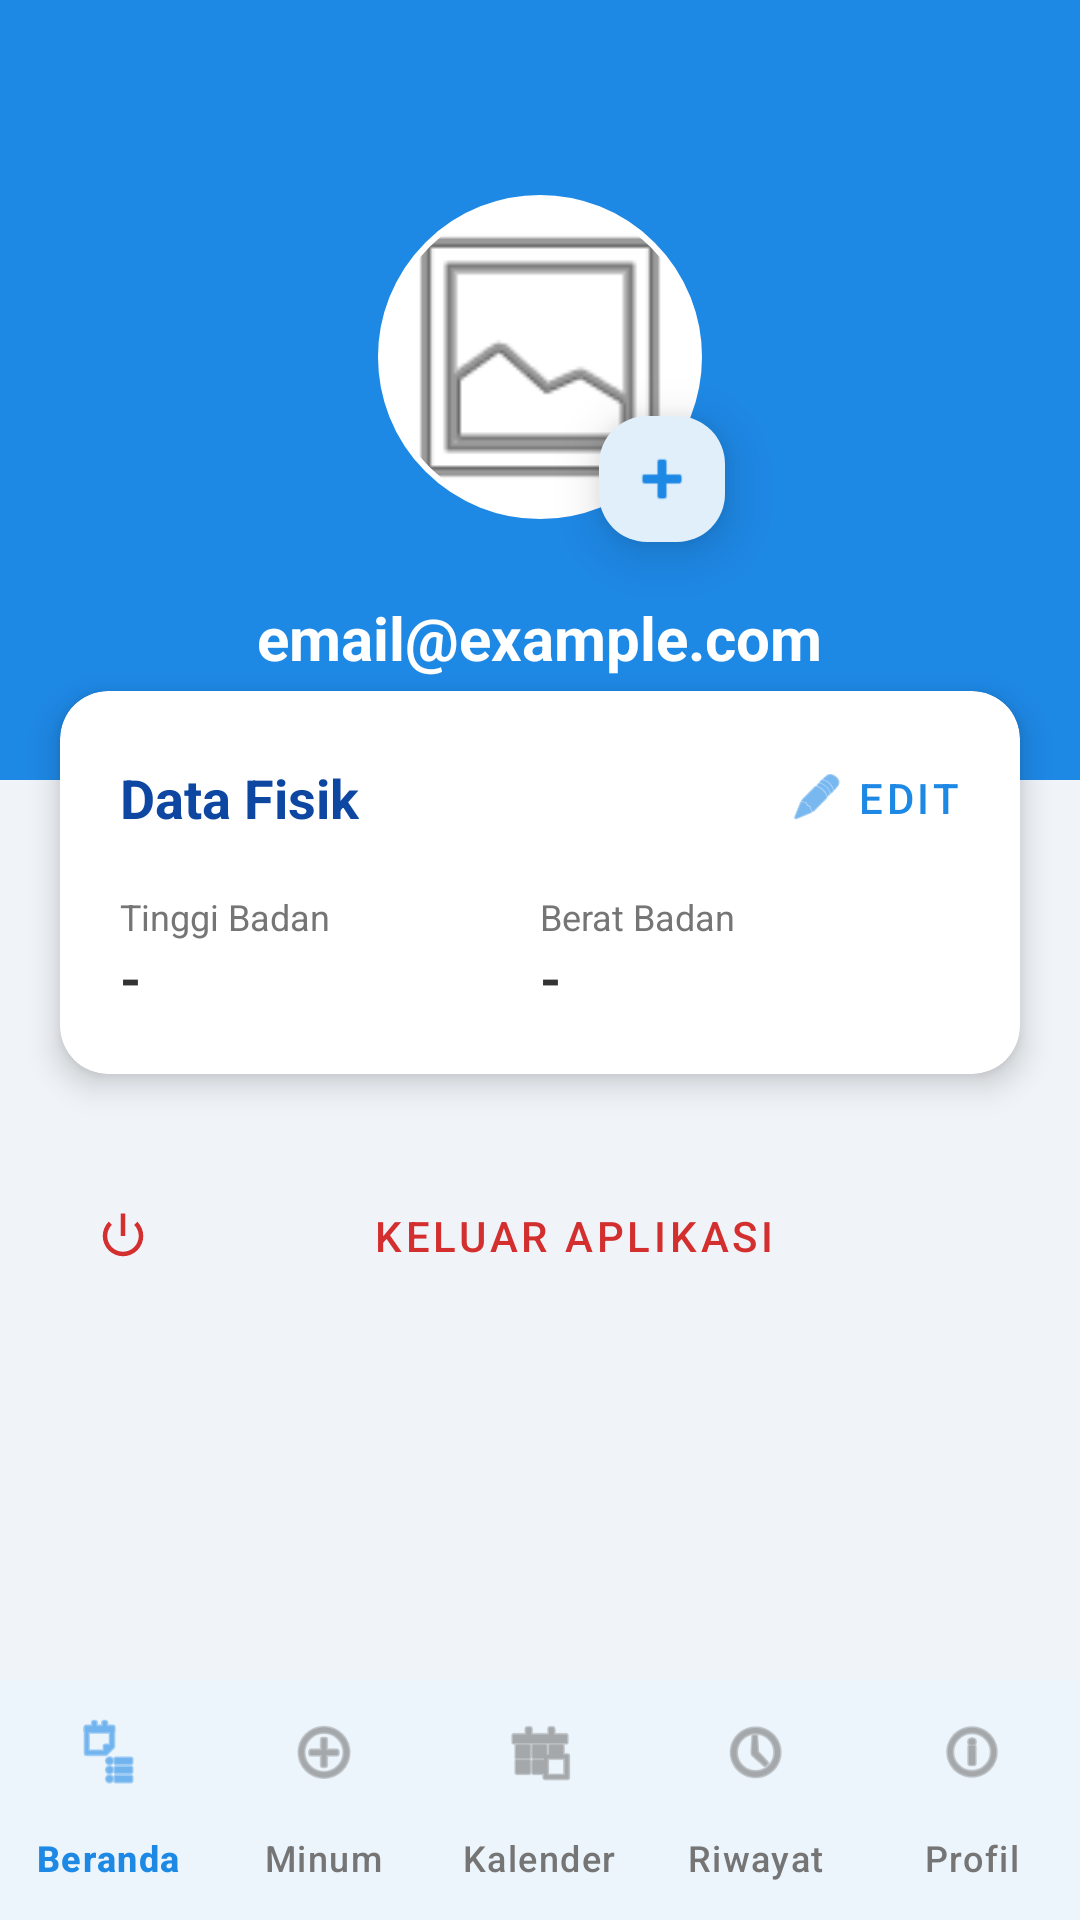

Where icons sit on this 1080px x 1920px app screen, as box=[x1, y1, x2, y2]:
Foto Profil: box=[378, 195, 705, 522]
